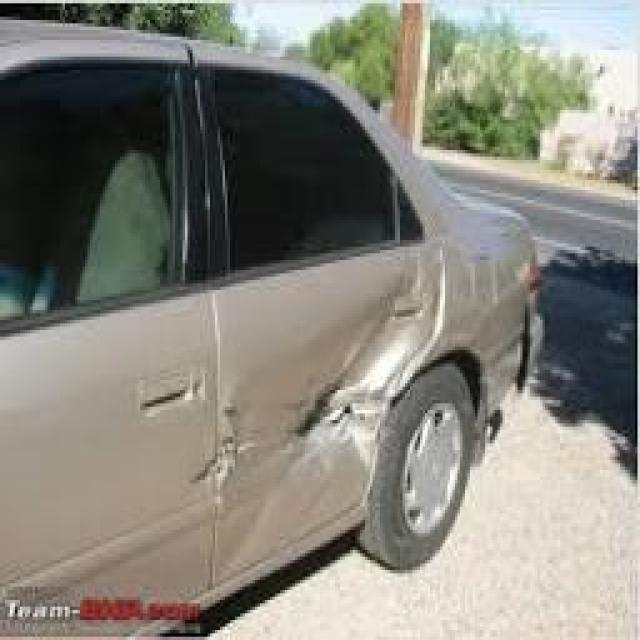rapairable: (185, 389, 234, 523)
replaceable: (266, 338, 385, 493)
